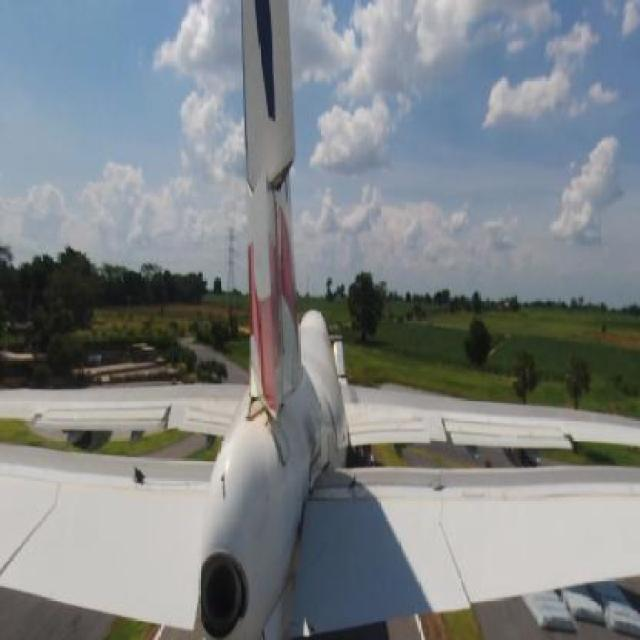Rust: (243, 392, 283, 451), (303, 408, 328, 469)
